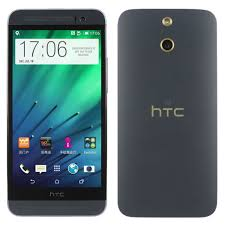htc: (4, 6, 107, 217), (115, 6, 218, 217)
